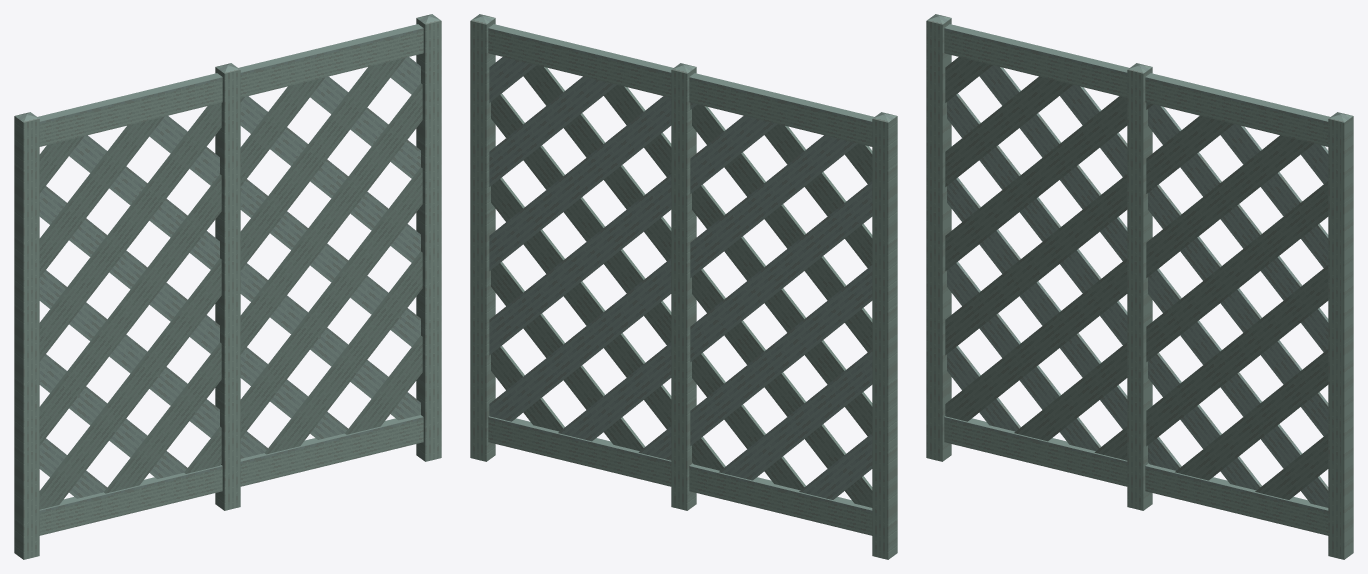
The model's file is 0116_Gardening_Fence.glb.
3 renders of one model, left to right at view 1: azimuth 30°, elevation 25°; view 2: azimuth 150°, elevation 25°; view 3: azimuth 330°, elevation 25°, orthographic.
Parts seen in each view (by area): view 1: part_0; view 2: part_0; view 3: part_0.
Boxes of the visible parts, x1=… form: part_0: x1=14, y1=14, x2=441, y2=559; part_0: x1=470, y1=14, x2=897, y2=559; part_0: x1=926, y1=14, x2=1353, y2=559.
Size of the model in its own units: 2.6 by 2.62 by 0.1.
Materials: 1 (1 with a texture image).
